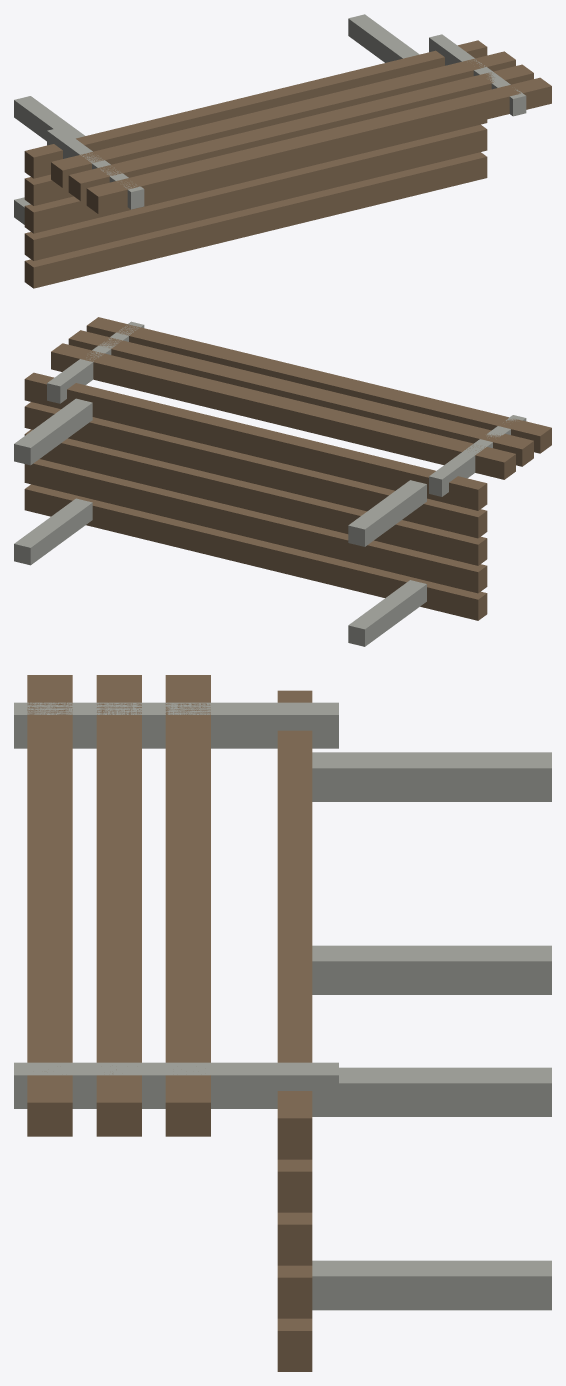
Rendered from bench.glb.
The picture shows the model from 3 angles, top to bottom: view 1: azimuth 30°, elevation 25°; view 2: azimuth 150°, elevation 25°; view 3: azimuth 270°, elevation 25°; orthographic projection. The views are drawn at different scales.
Visible parts, largest first — view 1: joinery; view 2: joinery; view 3: joinery.
Part boxes in pixels (x1,y1,x2,y2): joinery: (14, 14, 551, 288); joinery: (14, 317, 551, 646); joinery: (14, 675, 551, 1371).
Bounding box in the file's own units: 1.9 × 0.5575 × 1.01.
